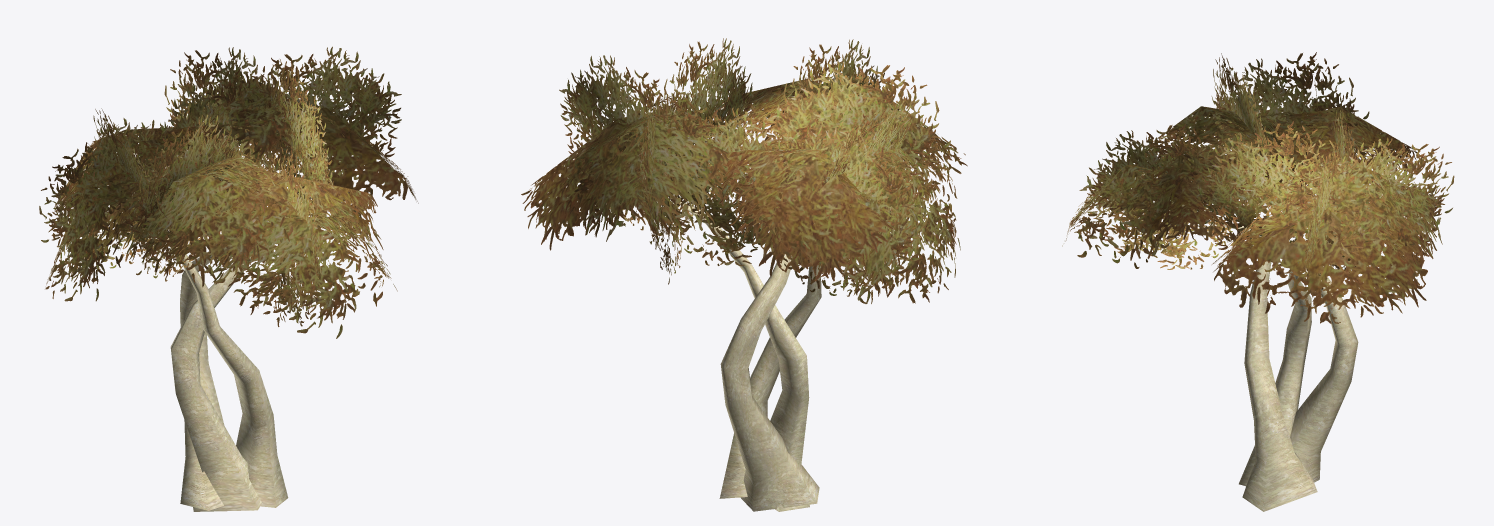
File: decd_windswept_a2_l1.fbx
3 views of the same model, side by side, from view 1: azimuth 30°, elevation 25°; view 2: azimuth 150°, elevation 25°; view 3: azimuth 270°, elevation 25° (orthographic). The views are drawn at different scales.
Parts seen in each view (by area): view 1: mesh_node; view 2: mesh_node; view 3: mesh_node.
Boxes of the visible parts, left/top/right/bottom form: mesh_node: left=39, top=46, right=418, bottom=511; mesh_node: left=521, top=38, right=967, bottom=511; mesh_node: left=1062, top=52, right=1454, bottom=511.
Size of the model in its own units: 7.28 by 7.34 by 6.87.
